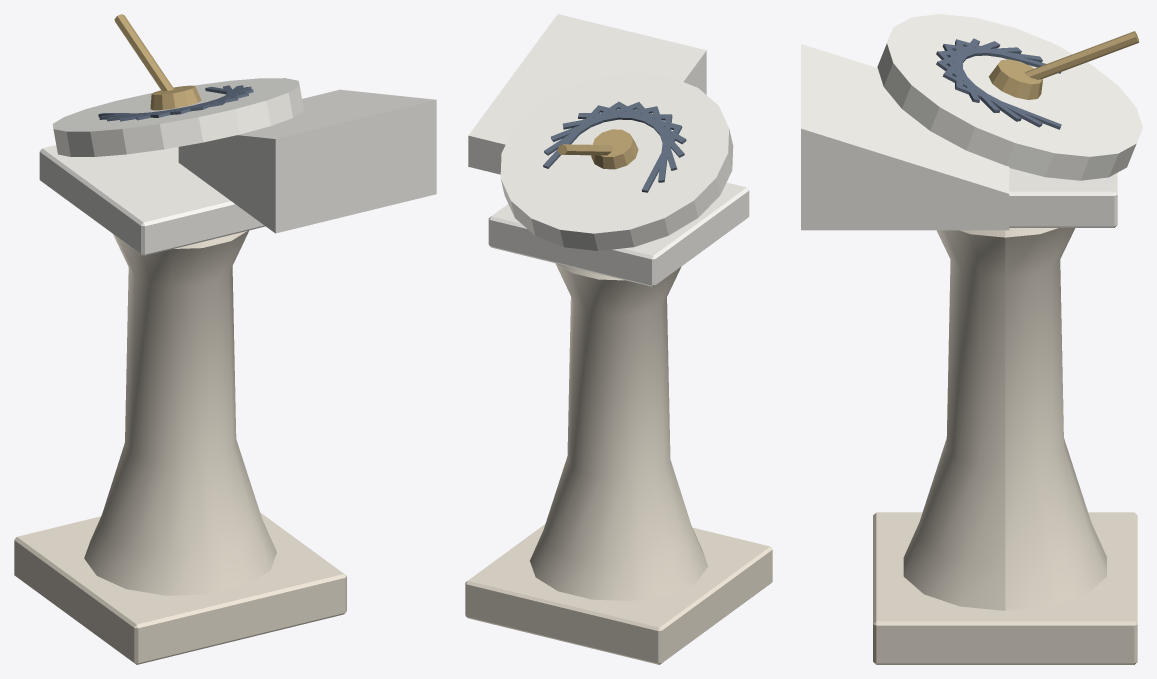
File: roman-bathhouse-and-palaestra-stone-sundial-45f509e6__37903.glb
The picture shows the model from 3 angles, left to right: view 1: azimuth 30°, elevation 25°; view 2: azimuth 150°, elevation 25°; view 3: azimuth 270°, elevation 25°; orthographic projection. The views are drawn at different scales.
Visible parts, largest first — view 1: stone-sundial; view 2: stone-sundial; view 3: stone-sundial.
Boxes of the visible parts, bbox=[...] form: stone-sundial: bbox=[14, 14, 436, 664]; stone-sundial: bbox=[465, 14, 772, 664]; stone-sundial: bbox=[801, 14, 1142, 664].
Size of the model in its own units: 0.84 by 1.59 by 0.8534.
